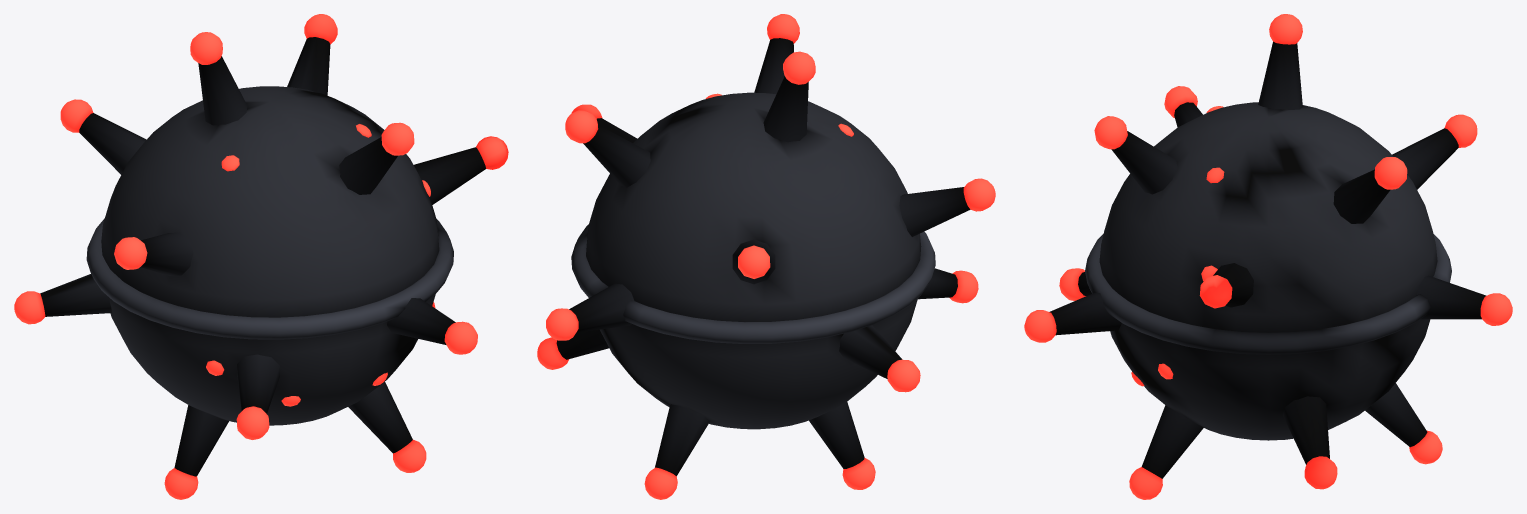
The model's file is mine.glb.
3 views of the same model, side by side, from view 1: azimuth 30°, elevation 25°; view 2: azimuth 150°, elevation 25°; view 3: azimuth 270°, elevation 25° (orthographic).
Visible parts, largest first — view 1: mine_mesh; view 2: mine_mesh; view 3: mine_mesh.
Part boxes in pixels (bbox=[...]): mine_mesh: bbox=[14, 14, 508, 499]; mine_mesh: bbox=[537, 14, 995, 499]; mine_mesh: bbox=[1024, 14, 1512, 499].
Bounding box in the file's own units: 1.42 × 1.43 × 1.44.
